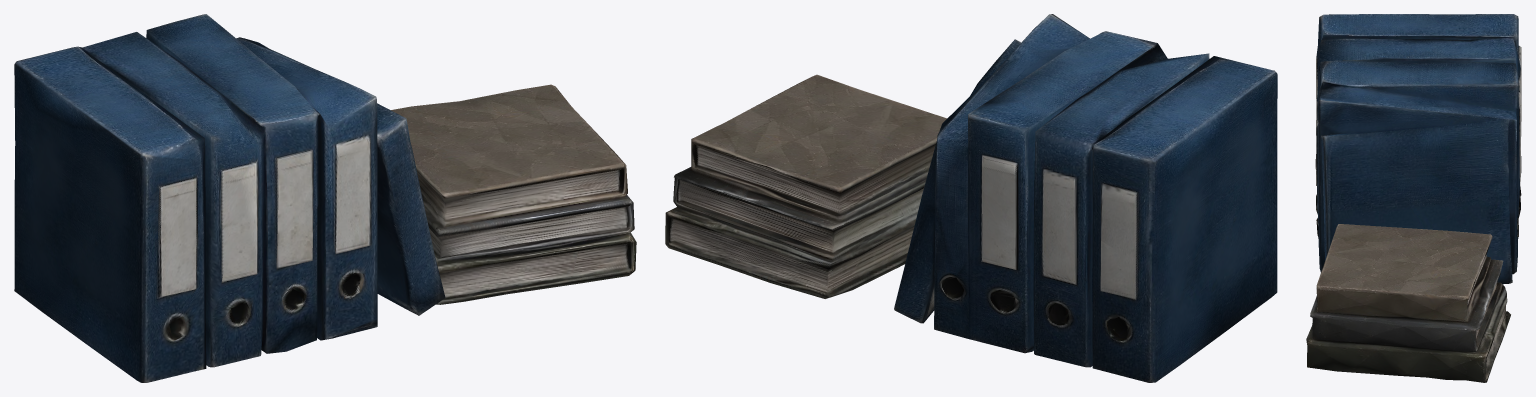
File: blue+binder+stack+3d+model.glb
The picture shows the model from 3 angles, left to right: view 1: azimuth 30°, elevation 25°; view 2: azimuth 150°, elevation 25°; view 3: azimuth 270°, elevation 25°; orthographic projection. The views are drawn at different scales.
Parts seen in each view (by area): view 1: tripo_node_aaec0a9a-a9fc-4a4b-8220-4f122fbdfd64; view 2: tripo_node_aaec0a9a-a9fc-4a4b-8220-4f122fbdfd64; view 3: tripo_node_aaec0a9a-a9fc-4a4b-8220-4f122fbdfd64.
Boxes of the visible parts, bbox=[...] form: tripo_node_aaec0a9a-a9fc-4a4b-8220-4f122fbdfd64: bbox=[14, 14, 636, 382]; tripo_node_aaec0a9a-a9fc-4a4b-8220-4f122fbdfd64: bbox=[665, 14, 1277, 382]; tripo_node_aaec0a9a-a9fc-4a4b-8220-4f122fbdfd64: bbox=[1306, 14, 1521, 382].
Size of the model in its own units: 1 by 0.4238 by 0.4664.
Materials: 1 (1 with a texture image).
